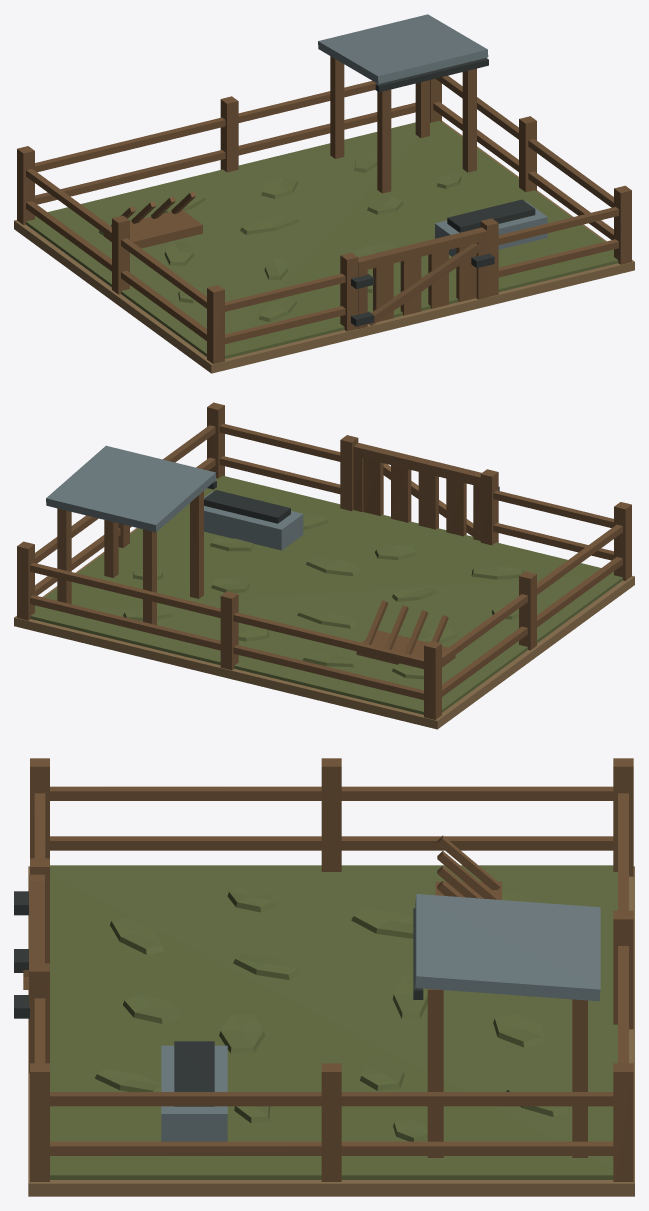
File: Animal-Pasture.glb
The picture shows the model from 3 angles, top to bottom: view 1: azimuth 30°, elevation 25°; view 2: azimuth 150°, elevation 25°; view 3: azimuth 270°, elevation 25°; orthographic projection. The views are drawn at different scales.
Parts seen in each view (by area): view 1: animal-pasture-static-animal-pasture-muted-grazing-grass, animal-pasture-static-animal-pasture-weathered-timber, animal-pasture-static-animal-pasture-galvanized-fixtures, animal-pasture-static-animal-pasture-earth-terrain, animal-pasture-static-animal-pasture-dark-iron-hardware; view 2: animal-pasture-static-animal-pasture-muted-grazing-grass, animal-pasture-static-animal-pasture-weathered-timber, animal-pasture-static-animal-pasture-galvanized-fixtures, animal-pasture-static-animal-pasture-earth-terrain, animal-pasture-static-animal-pasture-dark-iron-hardware; view 3: animal-pasture-static-animal-pasture-muted-grazing-grass, animal-pasture-static-animal-pasture-weathered-timber, animal-pasture-static-animal-pasture-galvanized-fixtures, animal-pasture-static-animal-pasture-earth-terrain, animal-pasture-static-animal-pasture-dark-iron-hardware.
Part boxes in pixels (left/top/right/bottom): animal-pasture-static-animal-pasture-muted-grazing-grass: left=26, top=120, right=618, bottom=358; animal-pasture-static-animal-pasture-weathered-timber: left=17, top=56, right=631, bottom=363; animal-pasture-static-animal-pasture-galvanized-fixtures: left=318, top=14, right=547, bottom=256; animal-pasture-static-animal-pasture-earth-terrain: left=14, top=121, right=634, bottom=373; animal-pasture-static-animal-pasture-dark-iron-hardware: left=351, top=58, right=535, bottom=326; animal-pasture-static-animal-pasture-muted-grazing-grass: left=30, top=475, right=622, bottom=714; animal-pasture-static-animal-pasture-weathered-timber: left=17, top=402, right=631, bottom=719; animal-pasture-static-animal-pasture-galvanized-fixtures: left=46, top=445, right=303, bottom=550; animal-pasture-static-animal-pasture-earth-terrain: left=14, top=528, right=634, bottom=729; animal-pasture-static-animal-pasture-dark-iron-hardware: left=204, top=481, right=499, bottom=523; animal-pasture-static-animal-pasture-muted-grazing-grass: left=50, top=865, right=617, bottom=1179; animal-pasture-static-animal-pasture-weathered-timber: left=23, top=758, right=633, bottom=1181; animal-pasture-static-animal-pasture-galvanized-fixtures: left=161, top=894, right=600, bottom=1141; animal-pasture-static-animal-pasture-earth-terrain: left=28, top=866, right=634, bottom=1196; animal-pasture-static-animal-pasture-dark-iron-hardware: left=14, top=891, right=423, bottom=1106.
Bounding box in the file's own units: 5.2 × 1.57 × 4.3.
